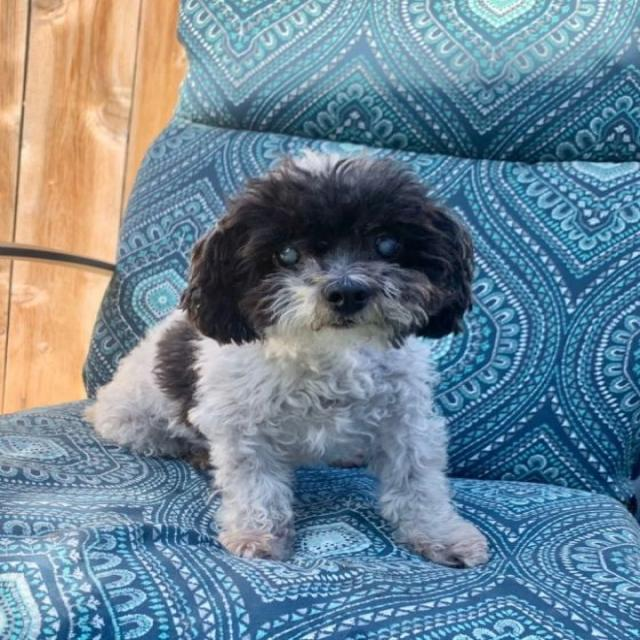Poodle_dog: (172, 145, 499, 360)
